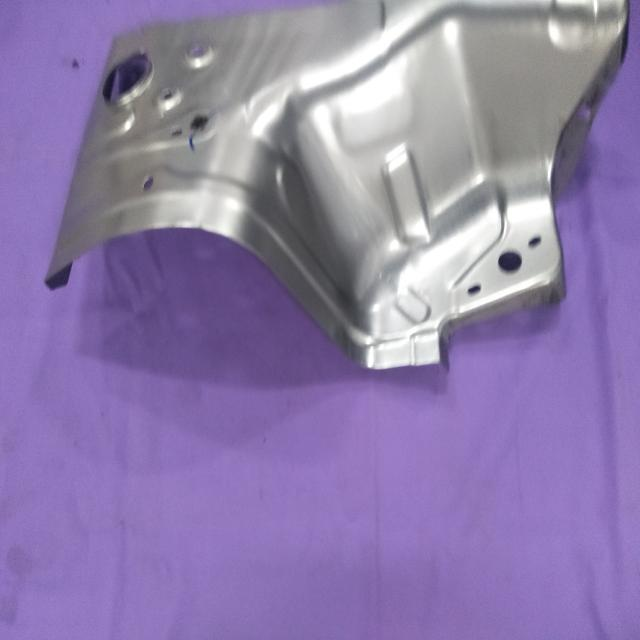Healthy: (43, 0, 629, 376)
